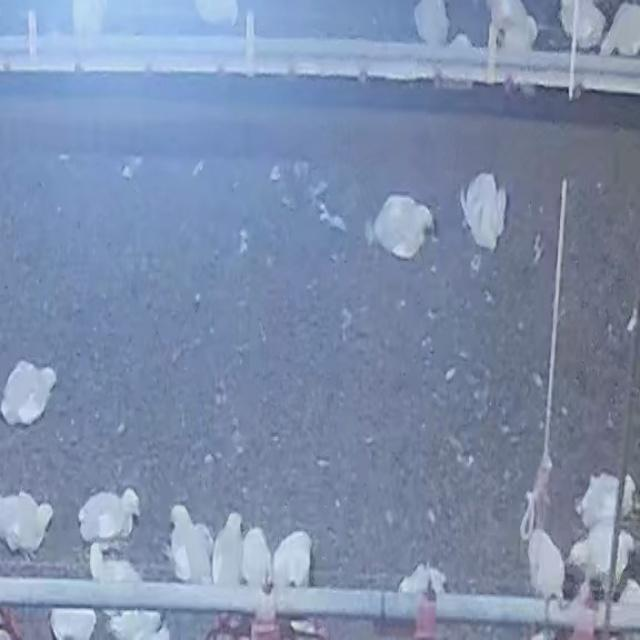chicken: (570, 523, 634, 594), (376, 194, 438, 259), (0, 490, 55, 560), (460, 173, 508, 253), (76, 488, 141, 546), (1, 360, 56, 428), (90, 546, 144, 615), (170, 502, 214, 584), (576, 473, 636, 529), (484, 0, 538, 56), (272, 525, 312, 600), (211, 507, 244, 596), (527, 530, 567, 600), (559, 0, 609, 48), (241, 523, 273, 596), (599, 2, 640, 56), (413, 0, 450, 46)
